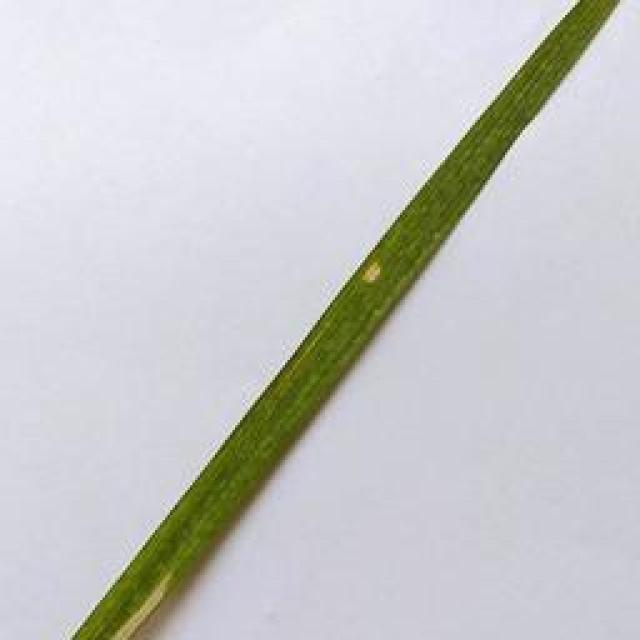Unhealthy: (108, 569, 171, 640), (360, 261, 383, 285)
